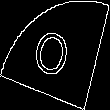O_S: (32, 24, 78, 86)
